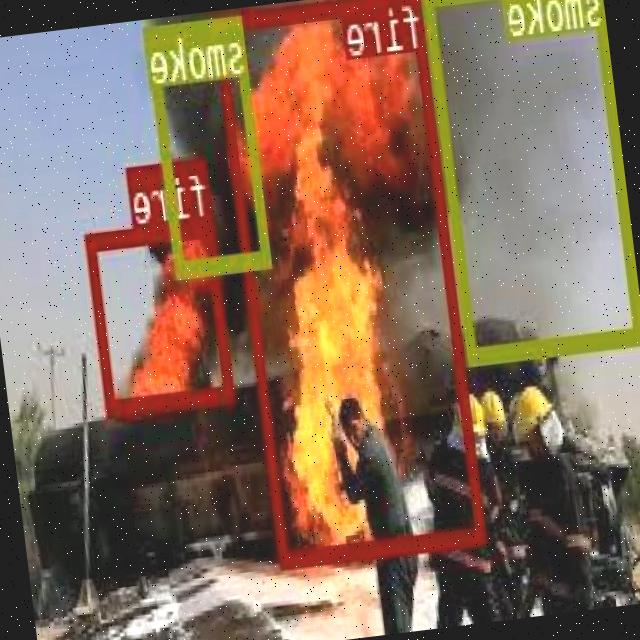fire: (214, 0, 488, 565), (86, 215, 236, 412)
smoke: (425, 0, 640, 361), (148, 12, 274, 276)
